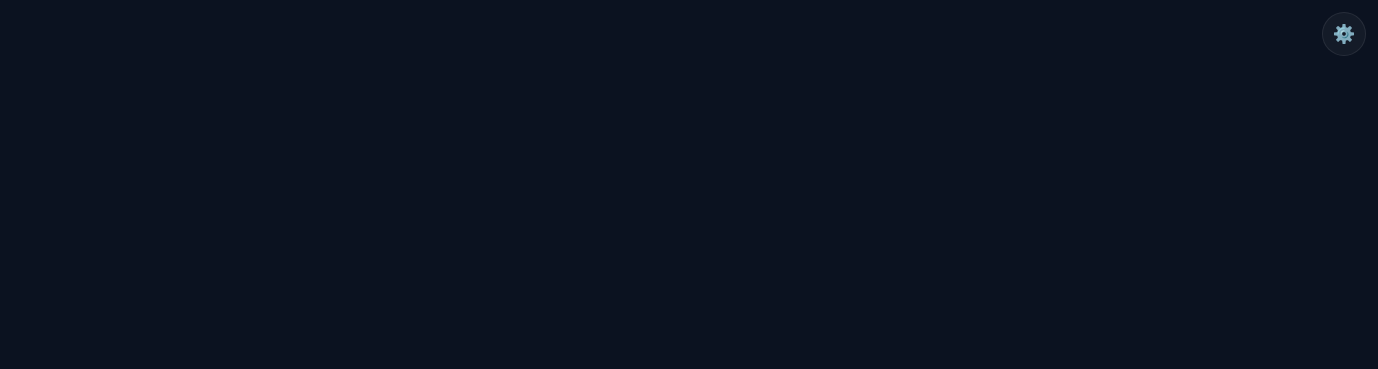
SettingsMenu › opens on trigger click and closes again on a second click
This screenshot has width=1378, height=369.
Click the button with test id "settings-menu-button".
click(1344, 34)  # box [1322,12,1366,56]
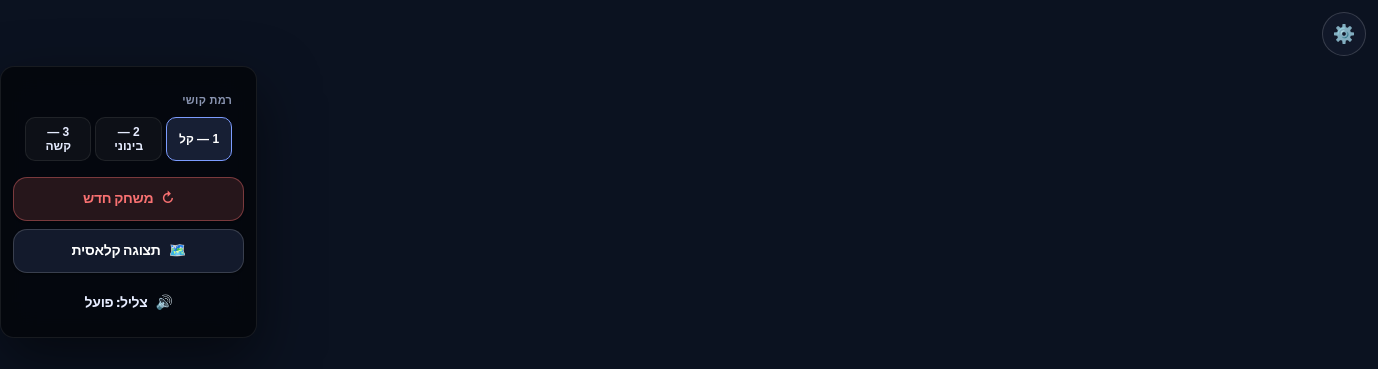
Now the button with test id "toggle-world-scene-button" is shown, box [13,229,244,273]
Click the button with test id "settings-menu-button".
click(1344, 34)  # box [1322,12,1366,56]
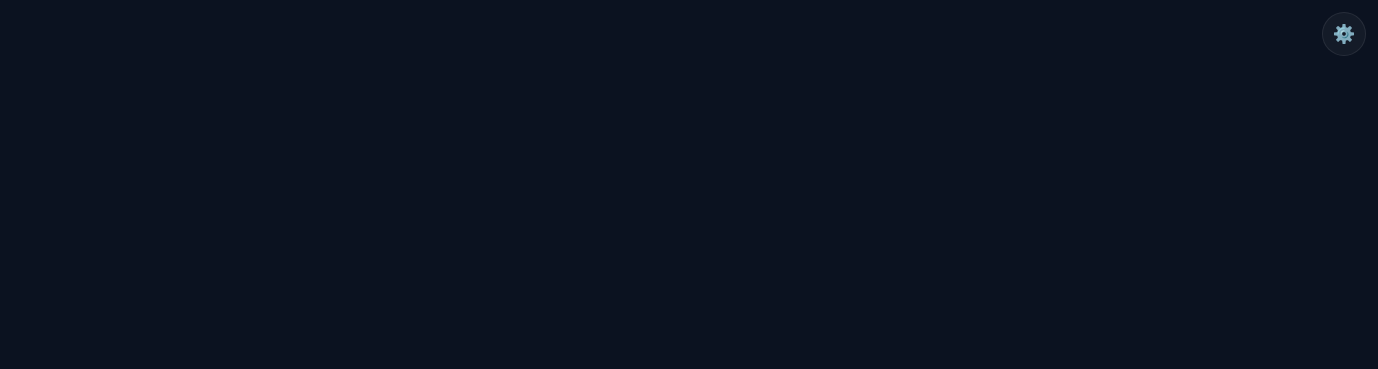
Now the button with test id "toggle-world-scene-button" is gone
